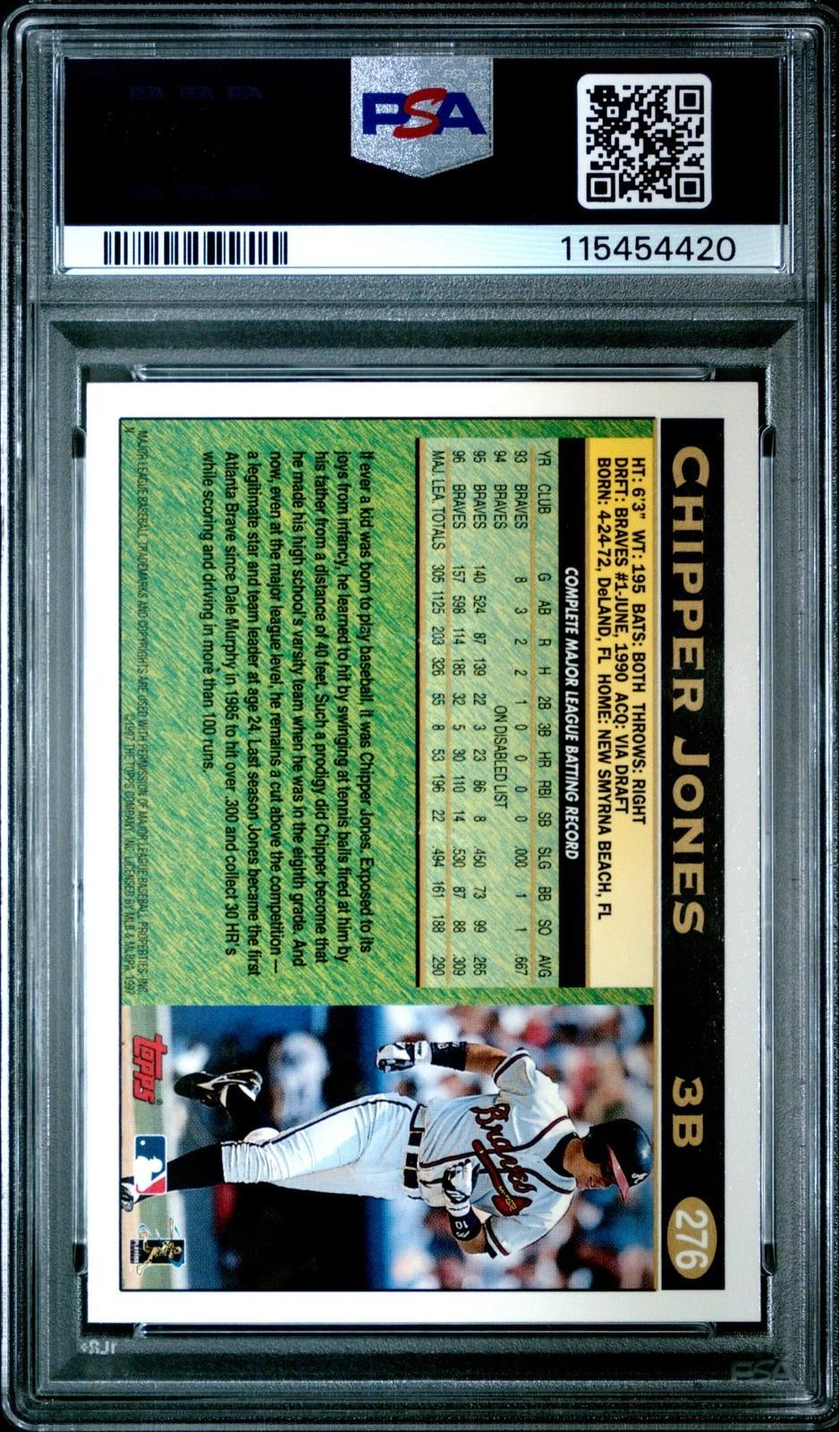card-2UtV: (86, 381, 762, 1324)
